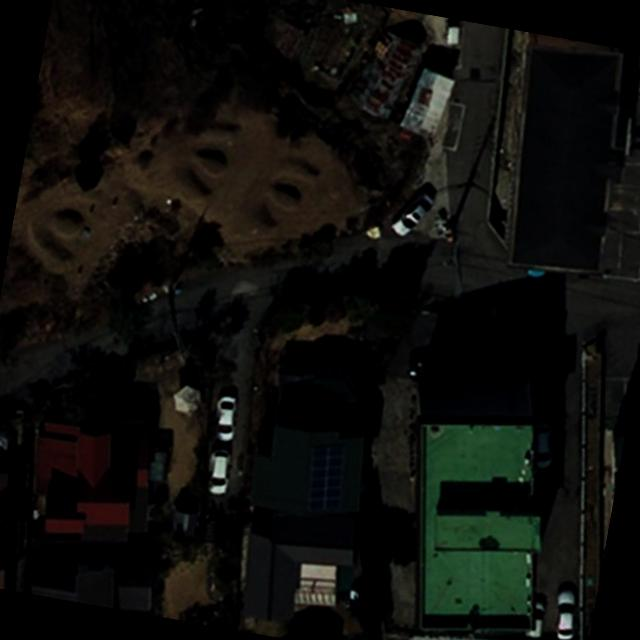solar: (296, 436, 354, 520)
